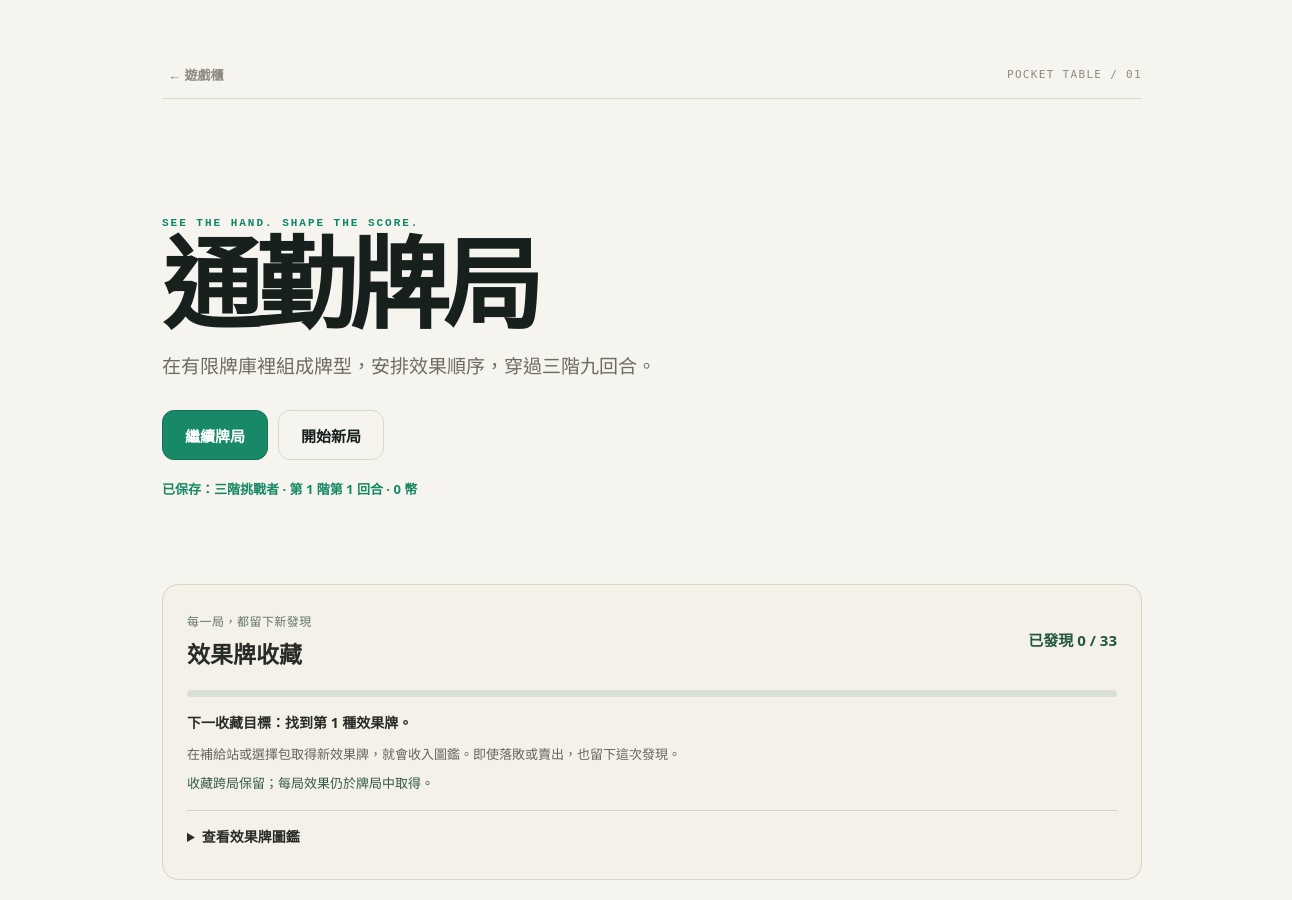
it: poker save recovery › keeps the landing page and old data on a failed start (existing run: true), then retries the same run
This screenshot has width=1292, height=900.
Click the button "開始新局".
click(331, 436)  # box [278,410,384,460]
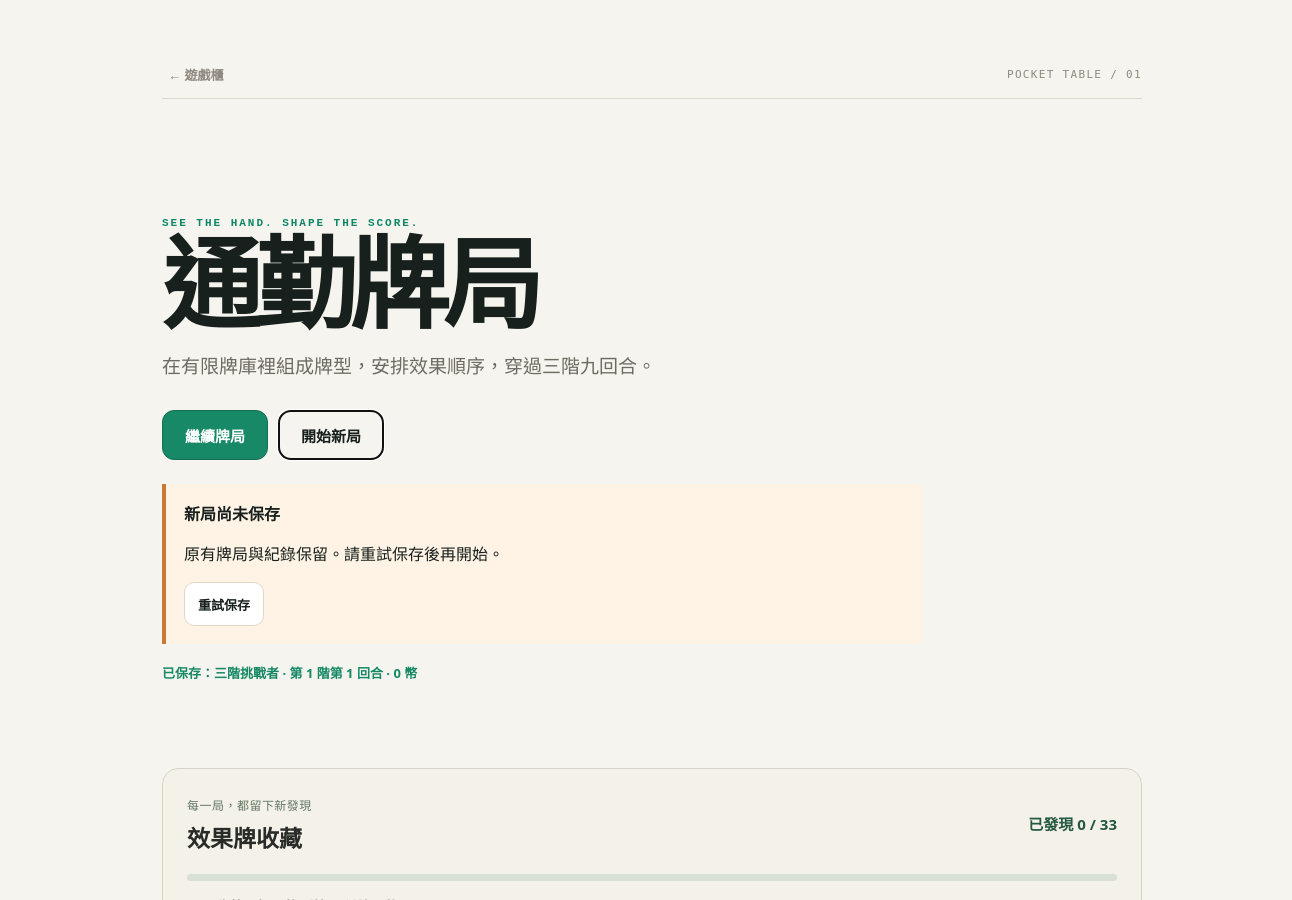
Now the message shows "新局尚未保存", box [184,504,280,526]
Click the button "重試保存".
click(224, 604)  # box [184,582,264,626]
(page scrolled)
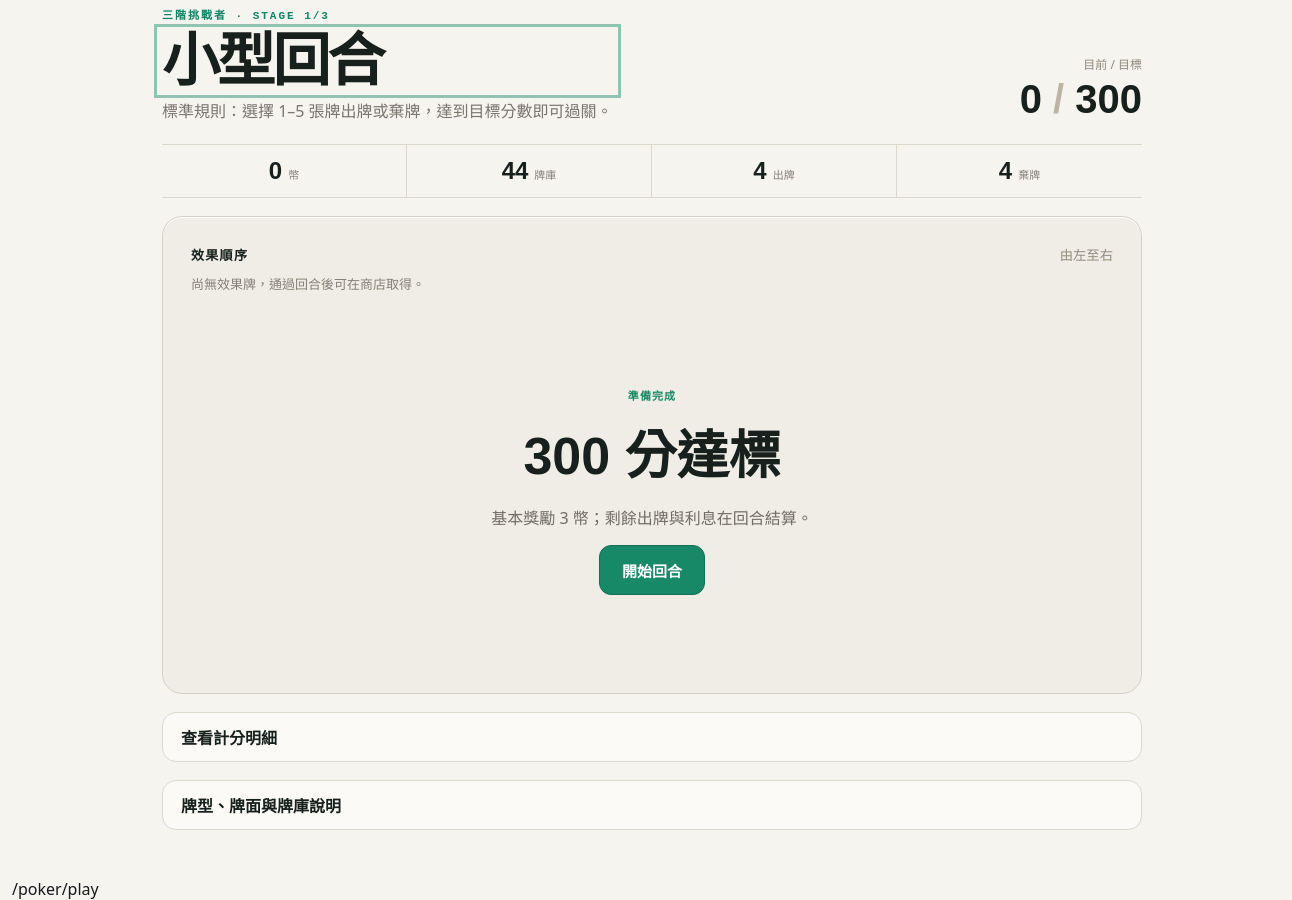
Now the text with test id "location" reads "/poker/play", box [12,878,99,899]
